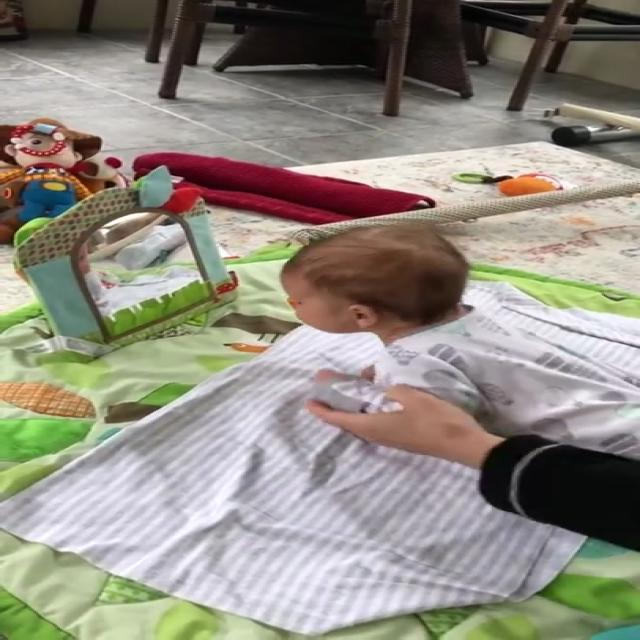baby: (269, 218, 640, 473)
